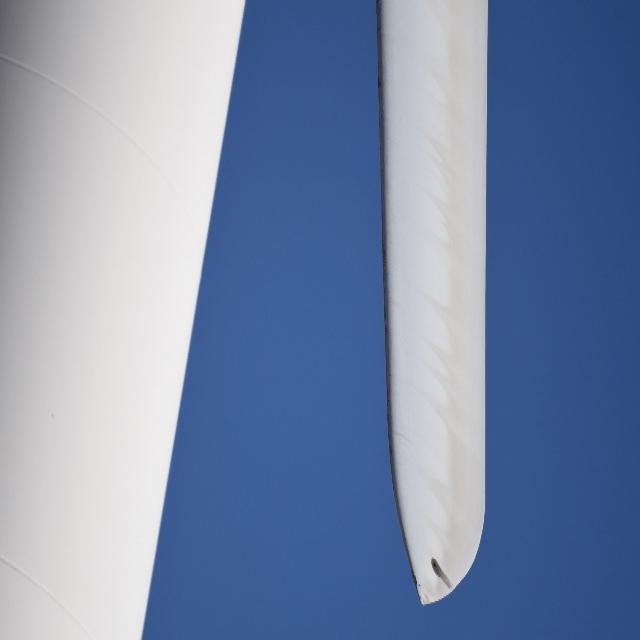Burn Mark: (429, 551, 455, 589)
